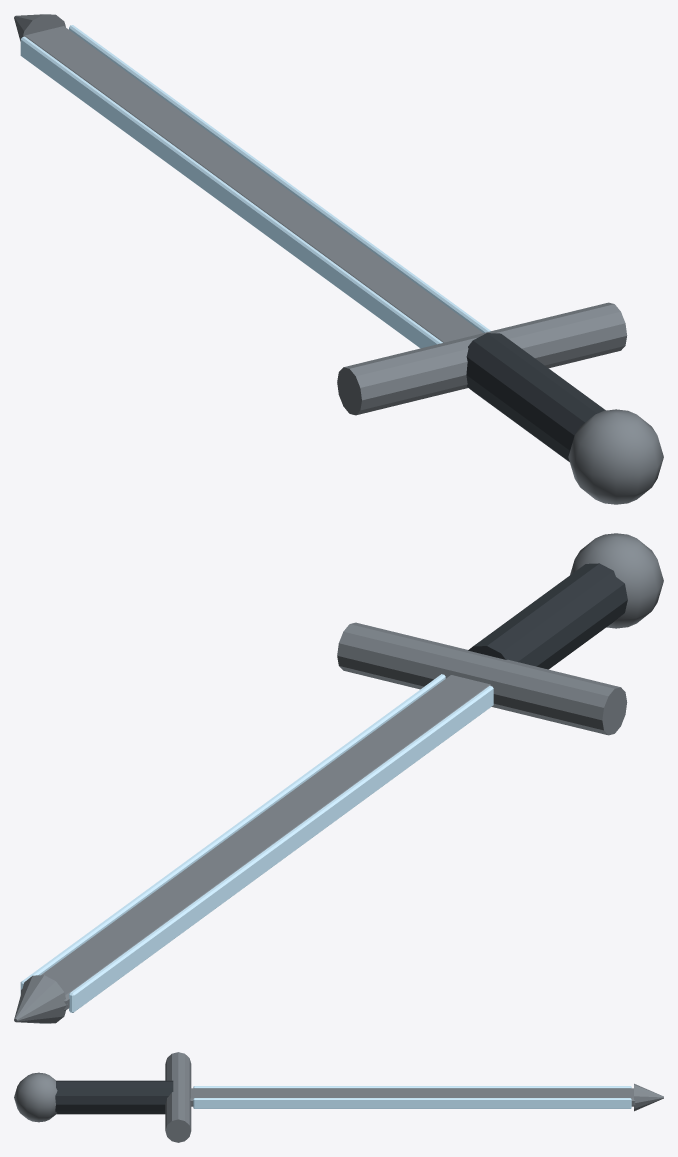
The model's file is WPN_Sword_A_TP_v01.glb.
3 views of the same model, one above another, from view 1: azimuth 30°, elevation 25°; view 2: azimuth 150°, elevation 25°; view 3: azimuth 270°, elevation 25° (orthographic). The views are drawn at different scales.
Parts seen in each view (by area): view 1: MESH_Hilt, MESH_Blade, MESH_BladeEdge; view 2: MESH_Hilt, MESH_Blade, MESH_BladeEdge; view 3: MESH_Hilt, MESH_BladeEdge, MESH_Blade.
Part boxes in pixels (box(x1,y1,x2,y2)): MESH_Hilt: box(337, 302, 663, 504); MESH_Blade: box(14, 14, 482, 342); MESH_BladeEdge: box(20, 25, 490, 348); MESH_Hilt: box(337, 533, 663, 735); MESH_Blade: box(14, 675, 490, 1023); MESH_BladeEdge: box(20, 674, 493, 1012); MESH_Hilt: box(14, 1052, 191, 1142); MESH_BladeEdge: box(193, 1086, 631, 1108); MESH_Blade: box(190, 1083, 663, 1111).
Size of the model in its own units: 0.32 by 0.1 by 1.31.
